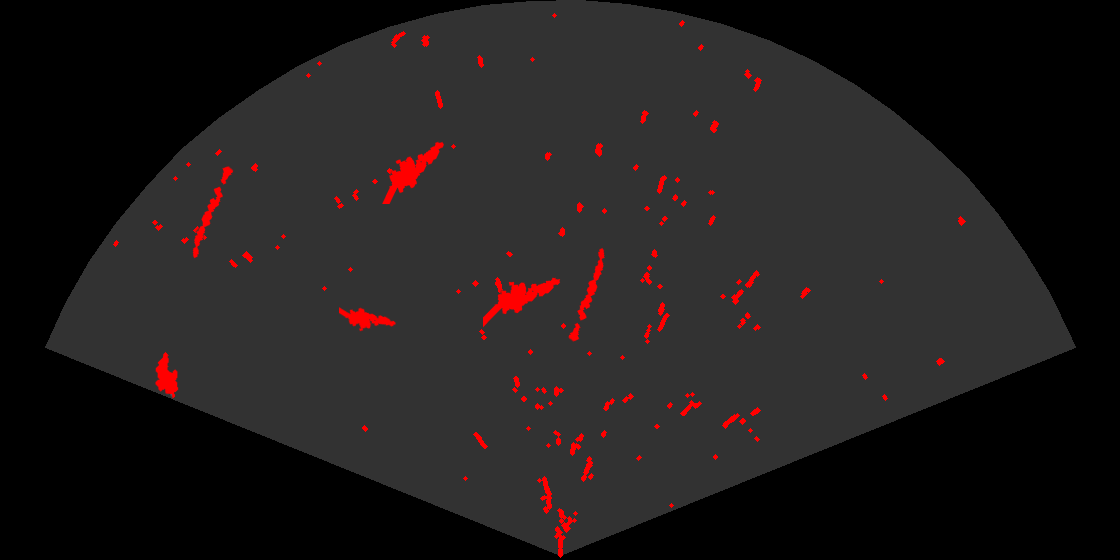AUV: (154, 350, 180, 400)
chain: (191, 165, 235, 260), (567, 247, 606, 343)
frogman: (483, 276, 562, 329), (381, 140, 446, 204), (339, 306, 398, 333)
